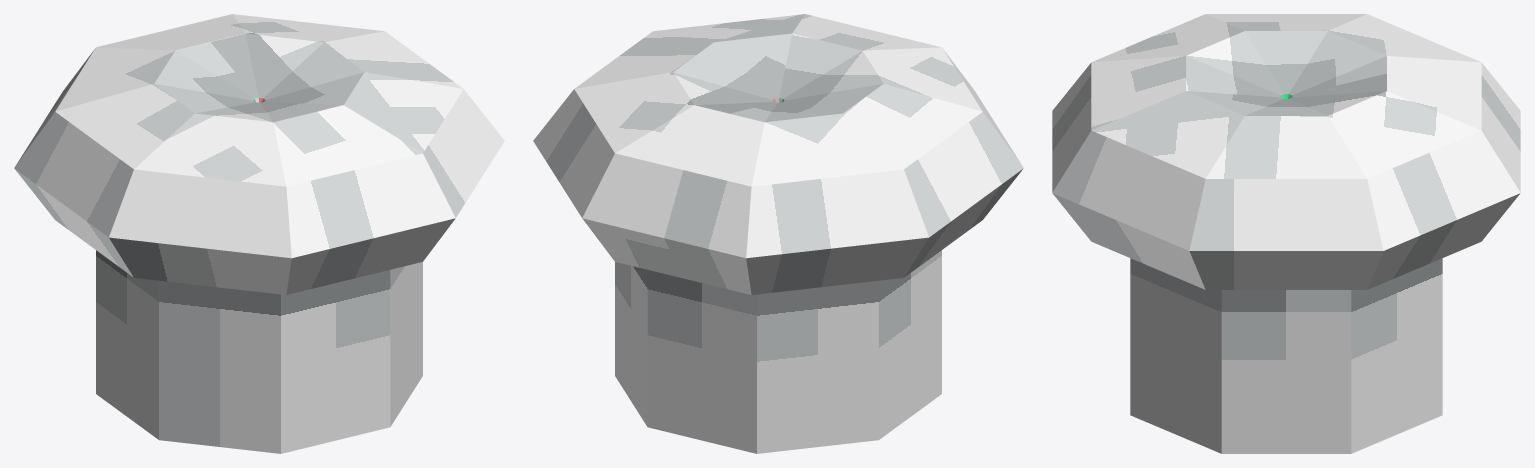
The model's file is chef-hat.fbx.
3 renders of one model, left to right at view 1: azimuth 30°, elevation 25°; view 2: azimuth 150°, elevation 25°; view 3: azimuth 270°, elevation 25°, orthographic. The views are drawn at different scales.
Parts seen in each view (by area): view 1: torus; view 2: torus; view 3: torus.
Part boxes in pixels (x1,y1,x2,y2): torus: (14,14,504,453); torus: (533,14,1023,453); torus: (1052,14,1520,453).
Size of the model in its own units: 56.25 by 41.65 by 56.25.
Materials: 1 (1 with a texture image).
